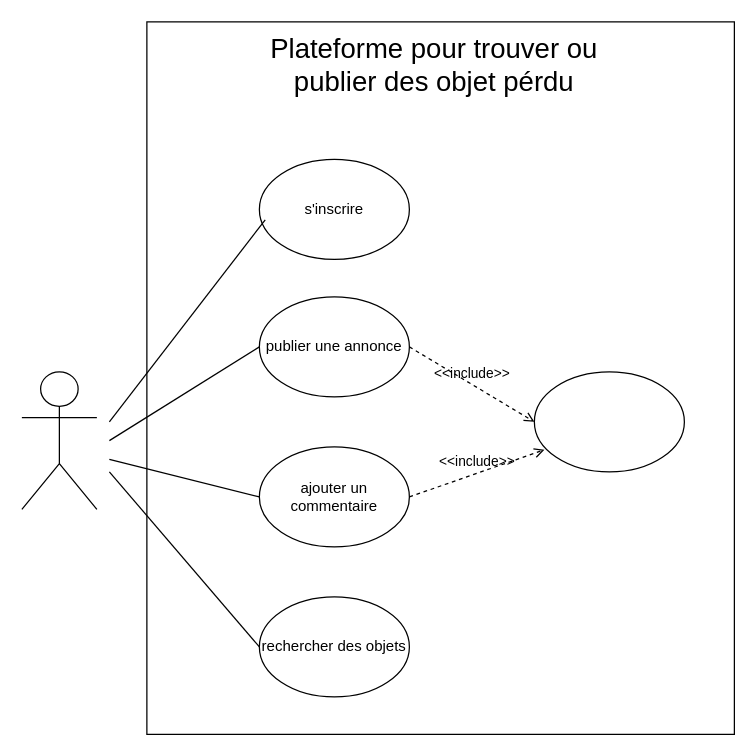
Some shapes in this 756 by 756 pixel diagram are drawn without their labels. The box of each missing label's shape, as (x1, y1, x2, y2) in pixels:
s'authentifier: (533, 371, 684, 472)
Utilisateur: (21, 371, 97, 509)
